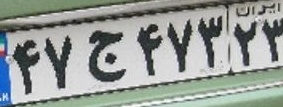character: (78, 26, 130, 85), (8, 34, 43, 98), (42, 29, 77, 93), (165, 8, 196, 77), (131, 17, 165, 79), (196, 8, 226, 70), (230, 19, 261, 70), (261, 14, 283, 64)
